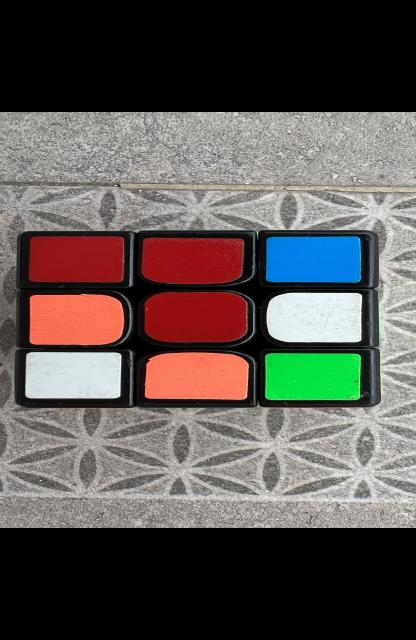Blue: (265, 236, 360, 283)
Green: (265, 353, 360, 400)
Orange: (143, 352, 248, 400), (28, 294, 123, 345)
Red: (143, 292, 246, 342), (140, 238, 243, 284), (28, 236, 123, 282)
White: (265, 292, 361, 343), (25, 352, 121, 399)
